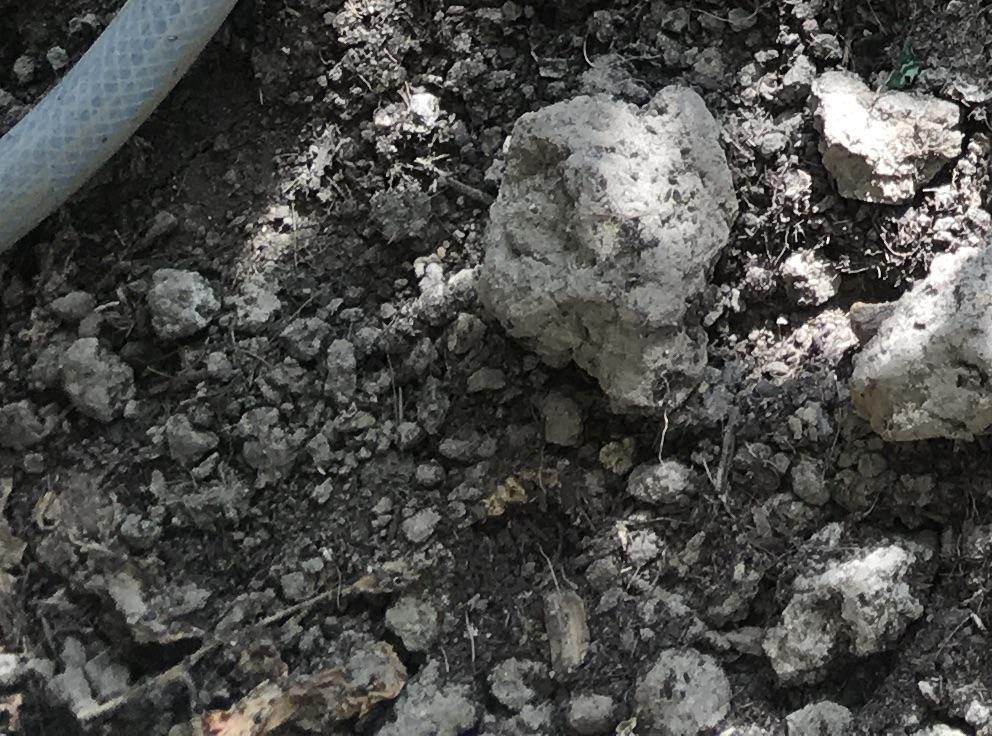block: (479, 88, 734, 420), (844, 246, 992, 444), (811, 67, 960, 210)
